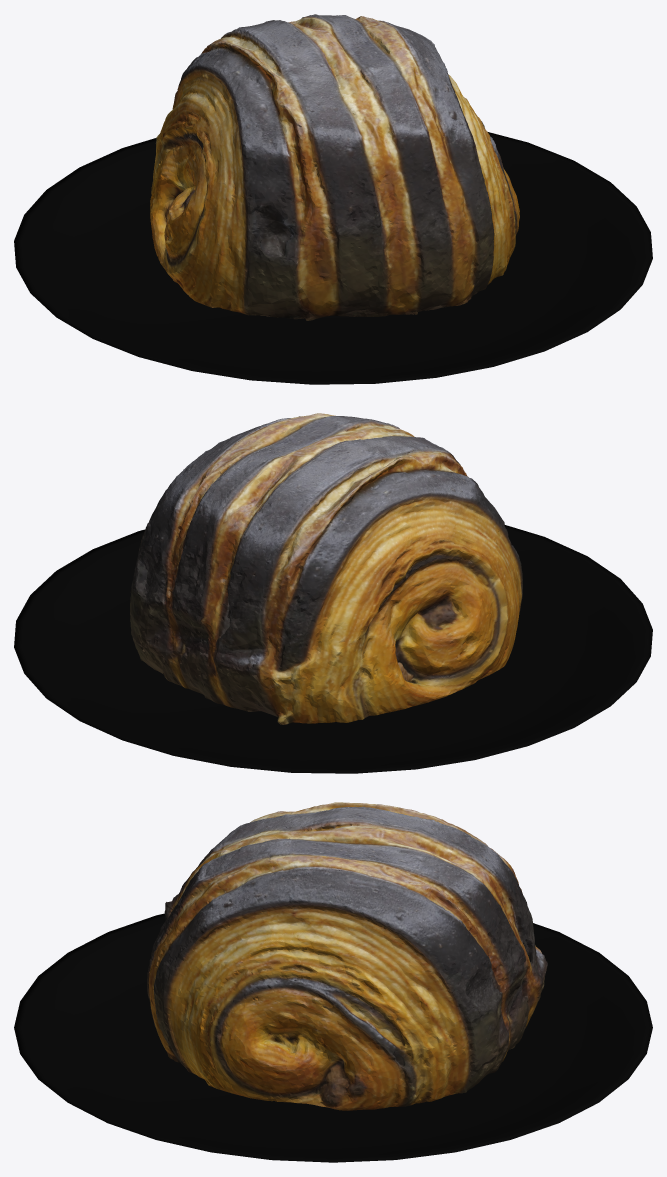
File: choccroissant.glb
3 renders of one model, top to bottom at view 1: azimuth 30°, elevation 25°; view 2: azimuth 150°, elevation 25°; view 3: azimuth 270°, elevation 25°, orthographic.
Visible parts, largest first — view 1: ChocCroissant; view 2: ChocCroissant; view 3: ChocCroissant.
Boxes of the visible parts, bbox=[...] form: ChocCroissant: bbox=[14, 14, 652, 384]; ChocCroissant: bbox=[14, 413, 652, 773]; ChocCroissant: bbox=[14, 802, 652, 1162].
Bounding box in the file's own units: 0.1065 × 0.0437 × 0.1065.
Materials: 2 (2 with a texture image).
